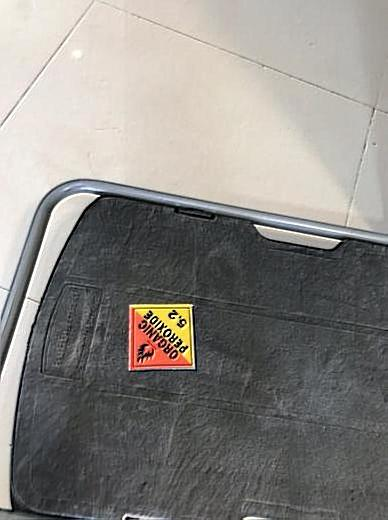organic-peroxide: (127, 305, 197, 372)
